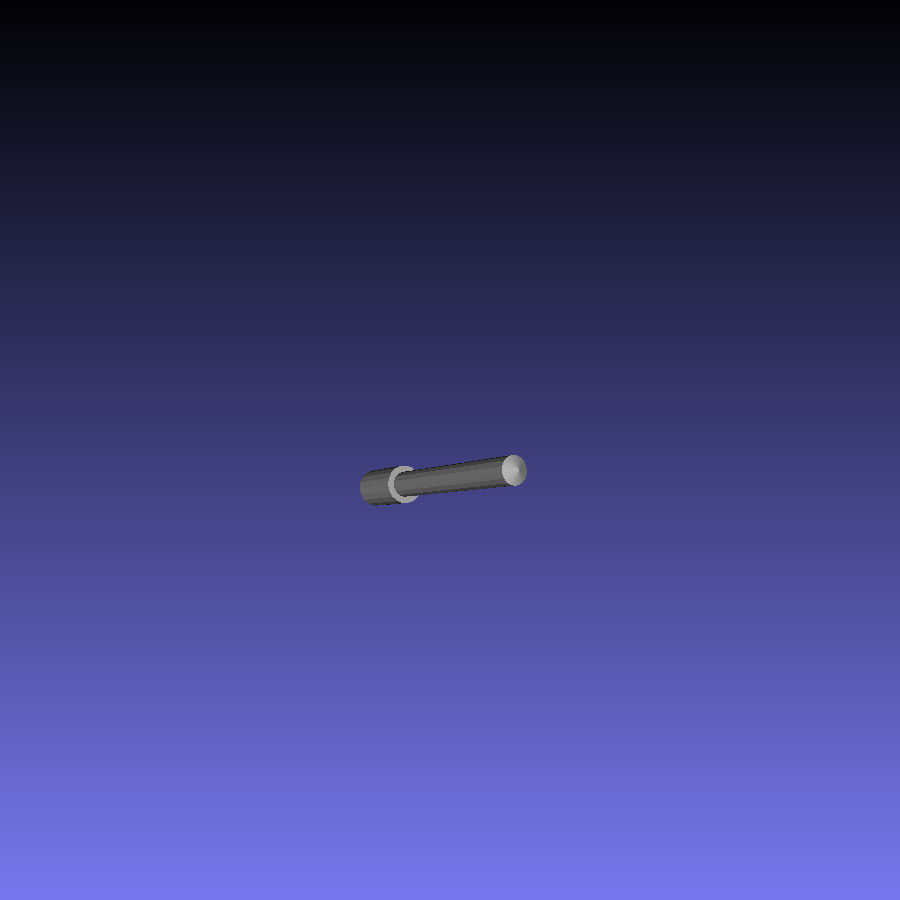cargo_g: (359, 455, 527, 505)
